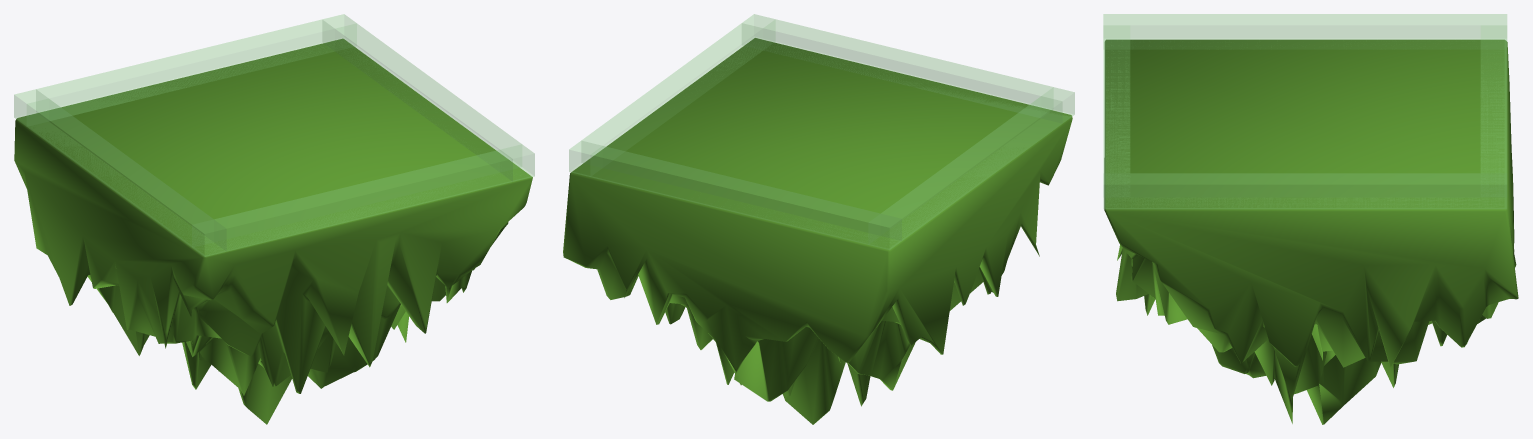
File: main.fbx
3 renders of one model, left to right at view 1: azimuth 30°, elevation 25°; view 2: azimuth 150°, elevation 25°; view 3: azimuth 270°, elevation 25°, orthographic. The views are drawn at different scales.
Parts seen in each view (by area): view 1: 墙壁-底部, 墙壁-围墙; view 2: 墙壁-底部, 墙壁-围墙; view 3: 墙壁-底部, 墙壁-围墙.
Boxes of the visible parts, x1,y1,x2,y2 form: 墙壁-底部: (14,38,532,424); 墙壁-围墙: (14,14,534,256); 墙壁-底部: (563,38,1072,424); 墙壁-围墙: (569,14,1074,249); 墙壁-底部: (1104,39,1518,424); 墙壁-围墙: (1103,14,1507,208).
Bounding box in the file's own units: 15.17 × 13.33 × 15.41.
